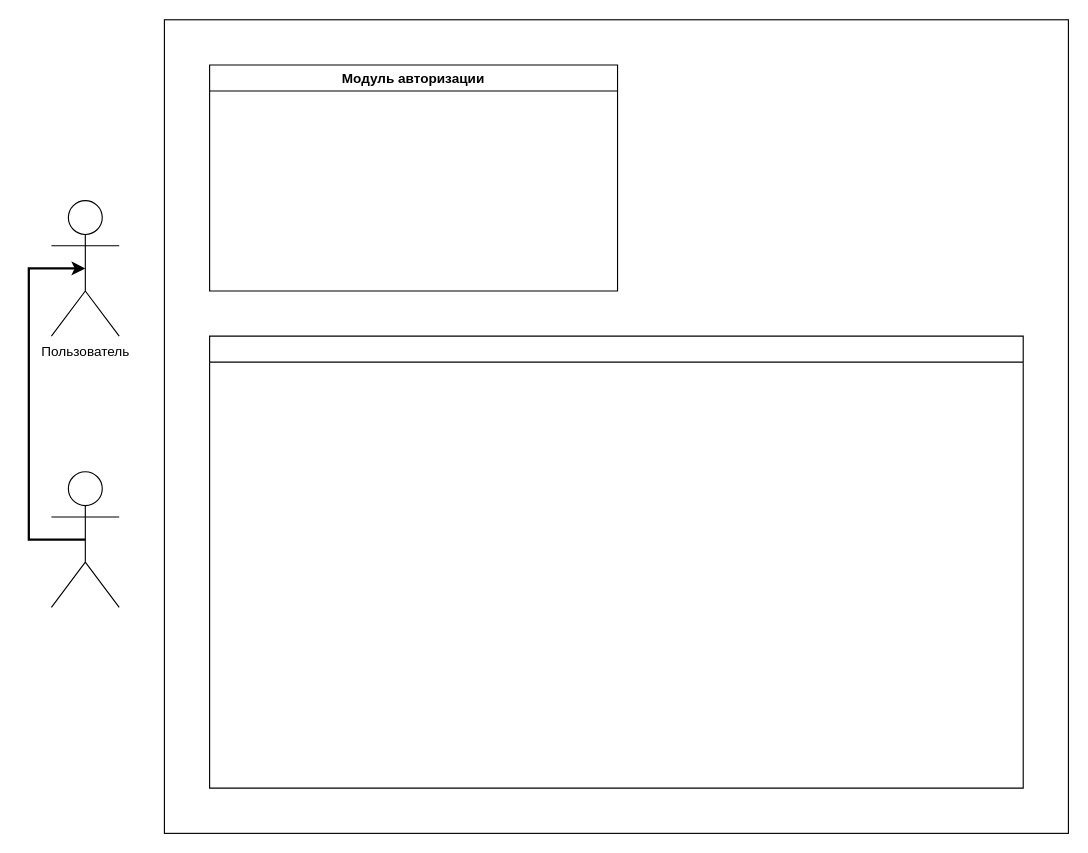
Some shapes in this 1088 by 853 pixel diagram are drawn without their labels. The centre of each missing label's shape, as x and y in pixels:
"Авторизованный пользователь" belongs at [84,539].
"Модуль приложения" belongs at [615,561].
